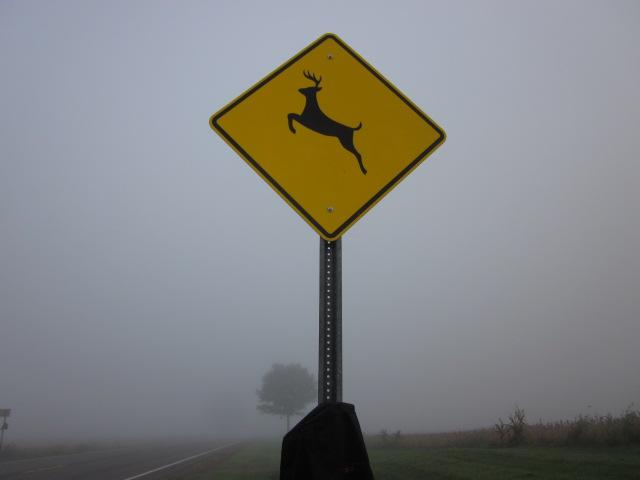warning: (211, 35, 447, 240)
